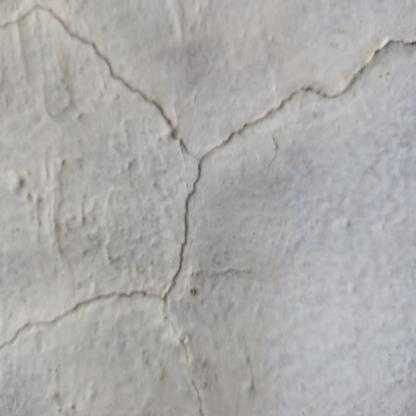crack: (0, 36, 412, 413), (2, 4, 183, 145)
